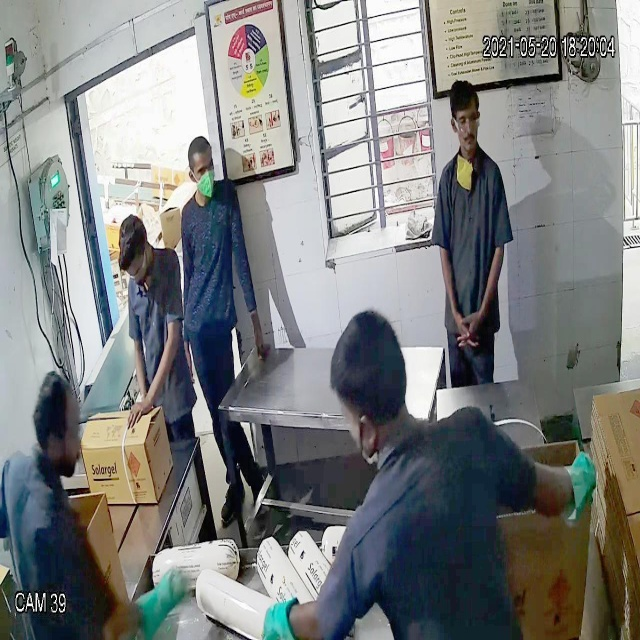Gafas: (448, 109, 483, 133)
Sin_gafas: (186, 151, 216, 183)
